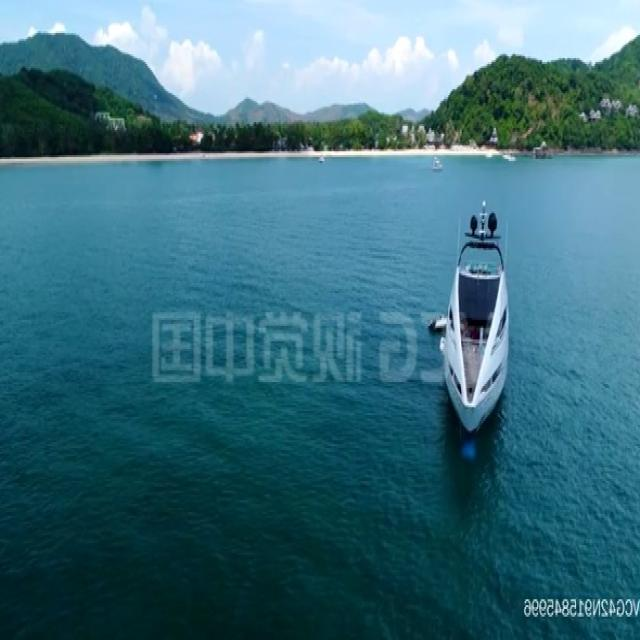houseboat: (426, 310, 449, 328), (431, 153, 446, 172)
passenger ship: (440, 201, 512, 425)
